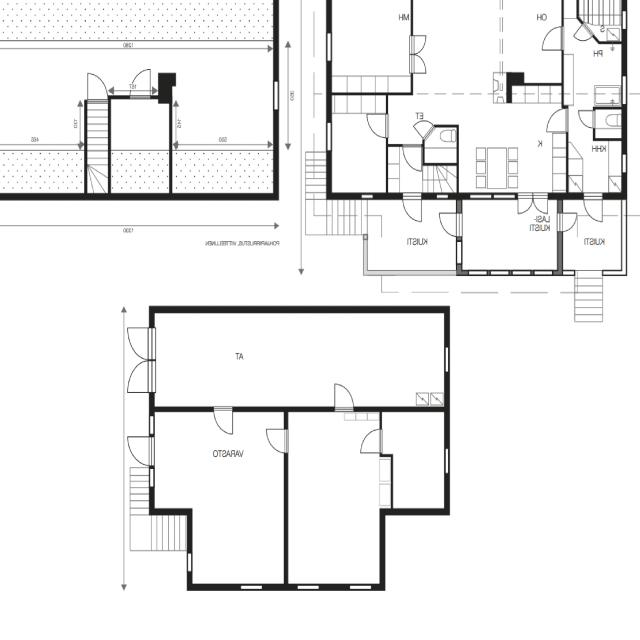door: (122, 360, 154, 393), (122, 327, 154, 360), (125, 437, 154, 466), (402, 193, 422, 223), (437, 213, 462, 237), (130, 68, 150, 98), (413, 113, 435, 140), (334, 383, 354, 412), (87, 75, 107, 103), (573, 22, 594, 48), (584, 192, 602, 222), (214, 407, 232, 436), (402, 144, 422, 170), (367, 114, 388, 138), (266, 430, 288, 452), (543, 26, 563, 50), (548, 109, 568, 132), (362, 430, 382, 452), (533, 193, 548, 218), (518, 193, 533, 218), (410, 54, 428, 74), (557, 214, 577, 232), (410, 36, 428, 54), (580, 111, 596, 128)
